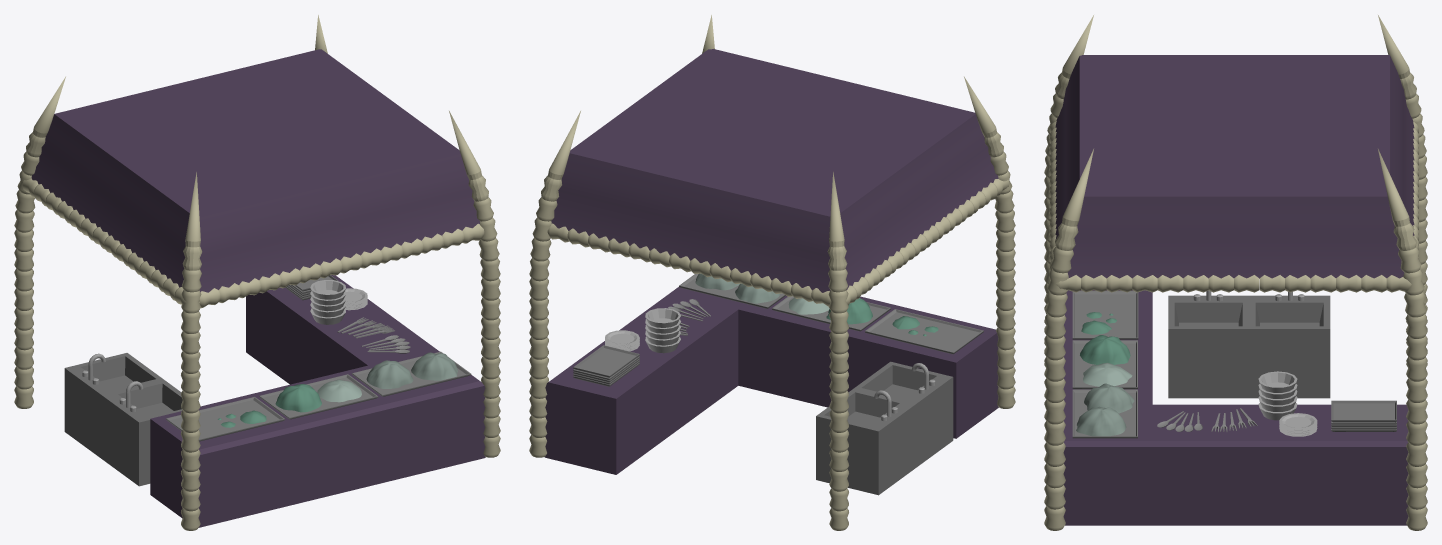
The model's file is PuestodeComida.fbx.
The picture shows the model from 3 angles, left to right: view 1: azimuth 30°, elevation 25°; view 2: azimuth 150°, elevation 25°; view 3: azimuth 270°, elevation 25°; orthographic projection. The views are drawn at different scales.
Parts seen in each view (by area): view 1: polySurface152, polySurface147, polySurface31, polySurface131, polySurface137, polySurface156, polySurface2, polySurface149, polySurface150, polySurface3, polySurface148, polySurface1 (+1 smaller); view 2: polySurface152, polySurface147, polySurface31, polySurface131, polySurface137, polySurface135, polySurface156, polySurface2, polySurface149, polySurface130, polySurface148; view 3: polySurface152, polySurface147, polySurface31, polySurface131, polySurface137, polySurface135, polySurface156, polySurface2, polySurface149, polySurface150, polySurface3, polySurface148 (+3 smaller).
Part boxes in pixels (<box>): polySurface152: <box>31,49,480,292</box>; polySurface147: <box>150,275,485,527</box>; polySurface31: <box>14,15,500,530</box>; polySurface131: <box>64,353,182,486</box>; polySurface137: <box>166,397,284,441</box>; polySurface156: <box>310,280,345,324</box>; polySurface2: <box>259,374,378,419</box>; polySurface149: <box>352,351,471,396</box>; polySurface150: <box>411,352,457,380</box>; polySurface3: <box>275,384,321,412</box>; polySurface148: <box>366,360,413,388</box>; polySurface1: <box>317,379,361,402</box>; polySurface152: <box>551,49,998,292</box>; polySurface147: <box>544,287,998,474</box>; polySurface31: <box>529,15,1015,530</box>; polySurface131: <box>816,361,953,495</box>; polySurface137: <box>865,309,983,354</box>; polySurface135: <box>573,345,639,386</box>; polySurface156: <box>645,308,680,353</box>; polySurface2: <box>772,296,890,331</box>; polySurface149: <box>679,274,785,308</box>; polySurface130: <box>605,330,639,351</box>; polySurface148: <box>735,283,780,303</box>; polySurface152: <box>1055,55,1414,278</box>; polySurface147: <box>1063,290,1408,525</box>; polySurface31: <box>1044,15,1427,530</box>; polySurface131: <box>1168,295,1330,398</box>; polySurface137: <box>1072,291,1138,339</box>; polySurface135: <box>1331,400,1396,431</box>; polySurface156: <box>1258,371,1297,420</box>; polySurface2: <box>1072,340,1137,389</box>; polySurface149: <box>1072,389,1137,438</box>; polySurface150: <box>1076,406,1126,436</box>; polySurface3: <box>1080,335,1130,364</box>; polySurface148: <box>1084,383,1134,413</box>.
Size of the model in its own units: 8.06 by 8.22 by 7.76.
